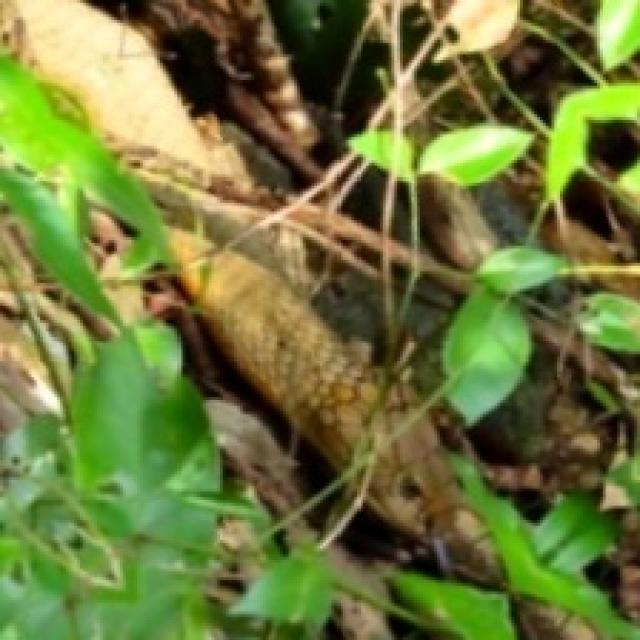king cobra: (174, 229, 637, 637)
